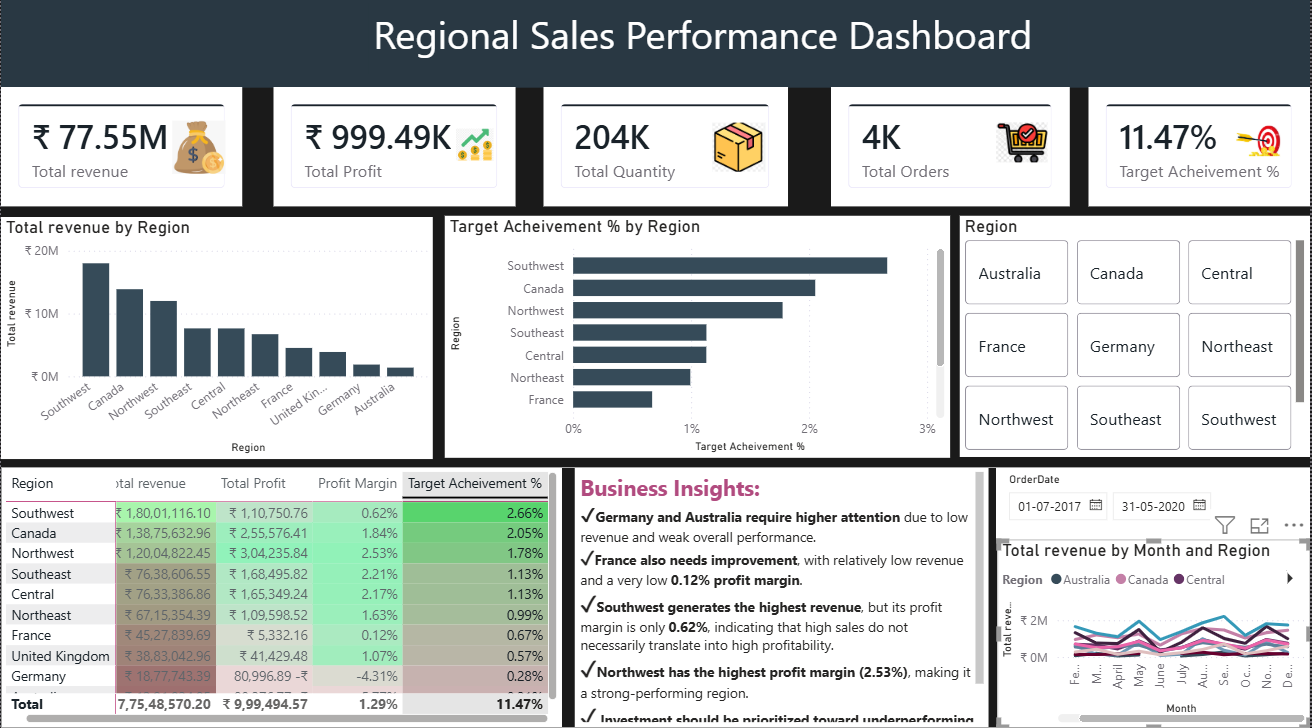

The page's visual inventory and layout, read from the dashboard file:
{"tool":"powerbi","page":{"name":"Page 1","canvas":[1280,720],"ordinal":0},"visuals":[{"type":"textbox","box":[0,0,1280.5,93.5],"z":0},{"type":"cardVisual","fields":{"Data":["Measures (2).Total Orders"]},"box":[811.7,93.5,233.8,116.9],"z":0,"group":"g3"},{"type":"clusteredColumnChart","fields":{"Y":["Measures (2).Total revenue"],"Category":["Region.Region"]},"box":[0,220.2,422.6,236.9],"z":0,"group":"g6"},{"type":"pivotTable","fields":{"Rows":["Region.Region"],"Values":["Measures (2).Total revenue","Measures (2).Total Profit","Measures (2).Profit Margin","Measures (2).Target Acheivement %"]},"box":[0,464.3,560.7,254.8],"z":0,"group":"g7"},{"type":"cardVisual","fields":{"Data":["Measures (2).Total revenue"]},"box":[0,93.5,236.4,116.9],"z":1,"group":"g1"},{"type":"cardVisual","fields":{"Data":["Measures (2).Total Quantity"]},"box":[531.2,93.5,239,116.9],"z":2,"group":"g4"},{"type":"cardVisual","fields":{"Data":["Measures (2).Total Profit"]},"box":[266.7,94,236.9,116.7],"z":3,"group":"g2"},{"type":"cardVisual","fields":{"Data":["Measures (2).Target Acheivement %"]},"box":[1063.6,93.5,216.9,116.9],"z":5,"group":"g5"},{"type":"image","box":[167.9,123.8,52.4,57.1],"z":17,"group":"g1"},{"type":"image","box":[445.6,130.6,36.7,39.2],"z":18,"group":"g2"},{"type":"image","box":[696.5,117.9,52.4,69],"z":21,"group":"g4"},{"type":"image","box":[1208.3,117.9,42.9,56],"z":25,"group":"g5"},{"type":"textbox","box":[359.8,11.5,685.1,69],"z":1000},{"type":"group","id":"g1","title":"Group 1","box":[0,93.5,236.4,116.9],"z":1000,"group":"g3"},{"type":"advancedSlicerVisual","fields":{"Values":["Region.Region"]},"box":[937.7,219.4,342.9,236.4],"z":1000,"group":"g6"},{"type":"textbox","box":[561.3,464,404.8,254.3],"z":1000,"group":"g7"},{"type":"group","id":"g2","title":"Group 2","box":[266.7,94,236.9,116.7],"z":2000,"group":"g3"},{"type":"image","box":[965.5,125,58.3,61.9],"z":2000},{"type":"clusteredBarChart","fields":{"Category":["Region.Region"],"Y":["Measures (2).Target Acheivement %"]},"box":[434.5,219,494,236.9],"z":2000,"group":"g6"},{"type":"slicer","fields":{"Values":["Sales.OrderDate"]},"box":[973.8,464.3,307.1,71.4],"z":2000,"group":"g7"},{"type":"group","id":"g3","title":"Group 5","box":[0,93.5,1280.5,117.2],"z":3000},{"type":"group","id":"g4","title":"Group 3","box":[531.2,93.5,239,116.9],"z":3000,"group":"g3"},{"type":"lineChart","fields":{"Category":["Sales.OrderDate.Variation.Date Hierarchy.Month"],"Y":["Measures (2).Total revenue"],"Series":["Region.Region"]},"box":[974,535,306,184],"z":3000,"group":"g7"},{"type":"group","id":"g5","title":"Group 4","box":[1063.6,93.5,216.9,116.9],"z":4000,"group":"g3"},{"type":"group","id":"g6","title":"Group 6","box":[0,219,1280.5,238.1],"z":4000},{"type":"group","id":"g7","title":"Group 7","box":[0,464,1281,255],"z":5000},{"type":"image","box":[973.8,121.4,50,52.4],"z":6000}]}

Visuals, with their boxes in screenshot pixels (x1, y1, x2, y2), scaled from the page's 1280x720 canvas onto the 1312x728 screenshot:
textbox: <bbox>0, 0, 1311, 95</bbox>
cardVisual - Measures (2).Total Orders: <bbox>832, 95, 1072, 213</bbox>
clusteredColumnChart - Measures (2).Total revenue x Region.Region: <bbox>0, 223, 433, 462</bbox>
pivotTable - Region.Region x Measures (2).Total revenue: <bbox>0, 469, 575, 727</bbox>
cardVisual - Measures (2).Total revenue: <bbox>0, 95, 242, 213</bbox>
cardVisual - Measures (2).Total Quantity: <bbox>544, 95, 789, 213</bbox>
cardVisual - Measures (2).Total Profit: <bbox>273, 95, 516, 213</bbox>
cardVisual - Measures (2).Target Acheivement %: <bbox>1090, 95, 1311, 213</bbox>
image: <bbox>172, 125, 226, 183</bbox>
image: <bbox>457, 132, 494, 172</bbox>
image: <bbox>714, 119, 768, 189</bbox>
image: <bbox>1239, 119, 1282, 176</bbox>
textbox: <bbox>369, 12, 1071, 81</bbox>
"Group 1" group: <bbox>0, 95, 242, 213</bbox>
advancedSlicerVisual - Region.Region: <bbox>961, 222, 1311, 461</bbox>
textbox: <bbox>575, 469, 990, 726</bbox>
"Group 2" group: <bbox>273, 95, 516, 213</bbox>
image: <bbox>990, 126, 1049, 189</bbox>
clusteredBarChart - Region.Region x Measures (2).Target Acheivement %: <bbox>445, 221, 952, 461</bbox>
slicer - Sales.OrderDate: <bbox>998, 469, 1311, 542</bbox>
"Group 5" group: <bbox>0, 95, 1311, 213</bbox>
"Group 3" group: <bbox>544, 95, 789, 213</bbox>
lineChart - Sales.OrderDate.Variation.Date Hierarchy.Month x Measures (2).Total revenue: <bbox>998, 541, 1311, 727</bbox>
"Group 4" group: <bbox>1090, 95, 1311, 213</bbox>
"Group 6" group: <bbox>0, 221, 1311, 462</bbox>
"Group 7" group: <bbox>0, 469, 1311, 727</bbox>
image: <bbox>998, 123, 1049, 176</bbox>
